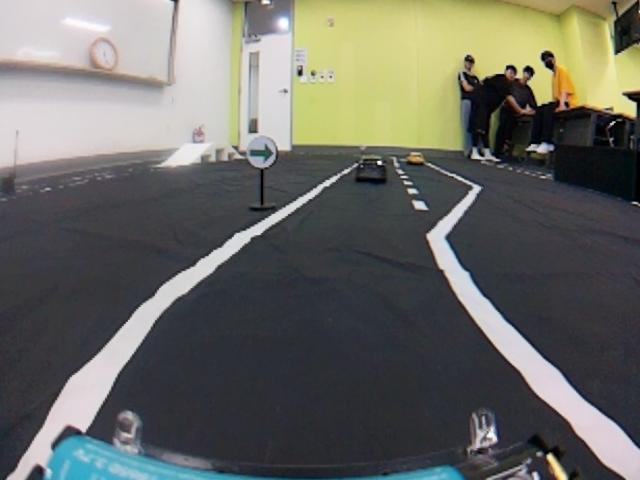car: (353, 150, 391, 185), (407, 150, 427, 164)
sign_right: (246, 136, 282, 170)
straight: (4, 234, 640, 479)
